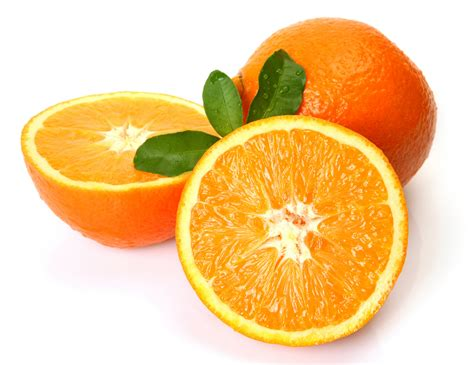orange: (230, 14, 441, 202)
